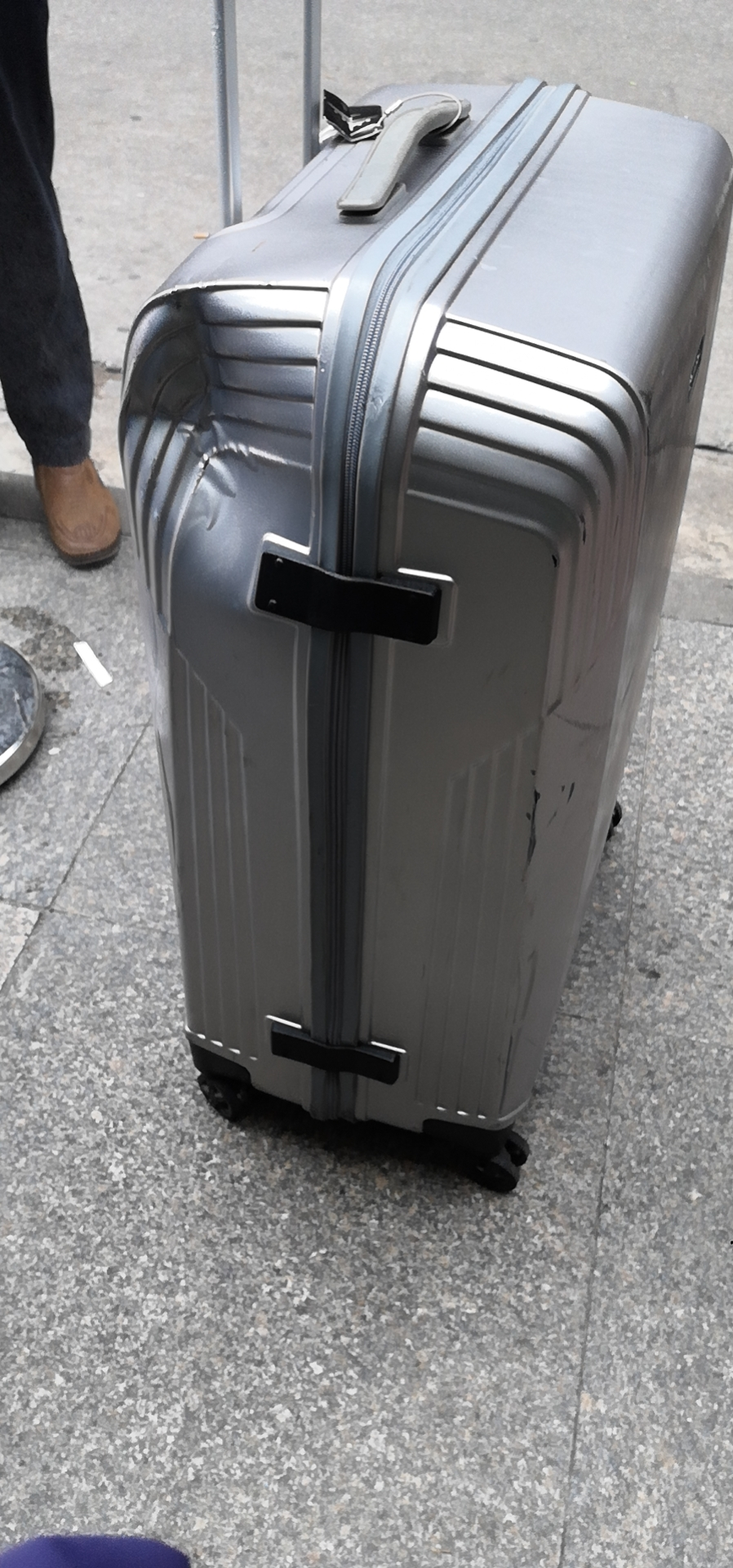hollow: (118, 286, 258, 529)
rupture: (526, 789, 540, 873)
scratch: (498, 1036, 513, 1120)
